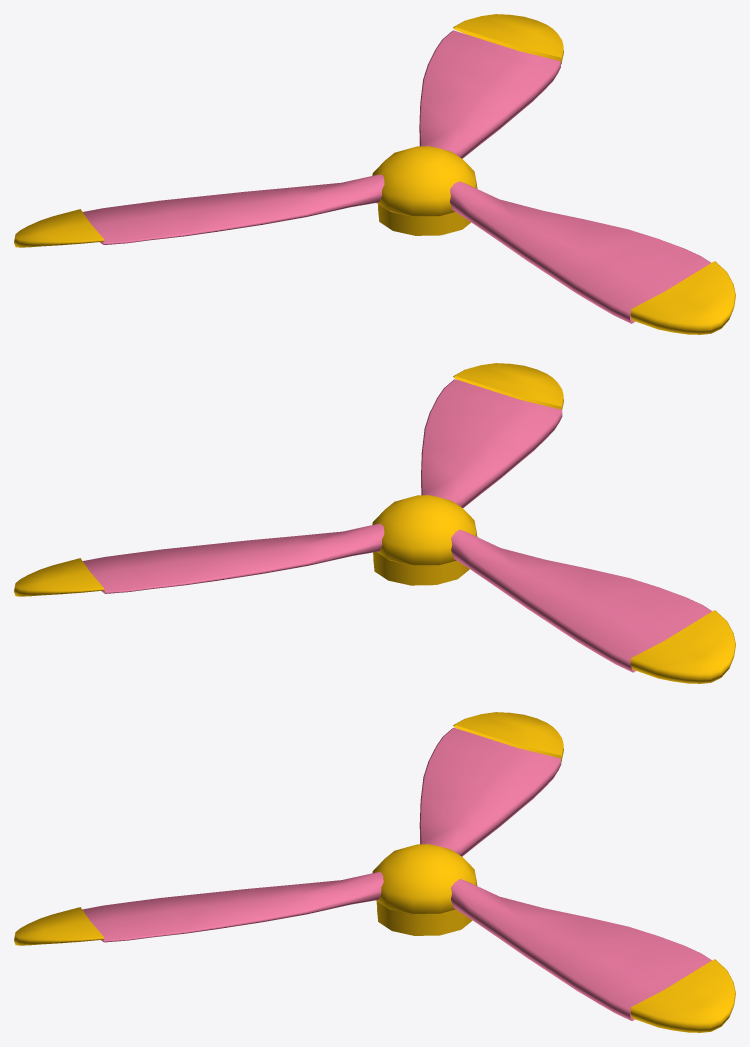
Rendered from HexProPeller.fbx.
3 views of the same model, one above another, from view 1: azimuth 30°, elevation 25°; view 2: azimuth 150°, elevation 25°; view 3: azimuth 270°, elevation 25° (orthographic).
Visible parts, largest first — view 1: PRP_FloatingCam_Propeller_0, PRP_FloatingCam_Propeller_1, PRP_FloatingCam_Propeller_2; view 2: PRP_FloatingCam_Propeller_0, PRP_FloatingCam_Propeller_1, PRP_FloatingCam_Propeller_2; view 3: PRP_FloatingCam_Propeller_0, PRP_FloatingCam_Propeller_1, PRP_FloatingCam_Propeller_2.
Part boxes in pixels (<box>): PRP_FloatingCam_Propeller_0: <box>83,30,710,323</box>; PRP_FloatingCam_Propeller_1: <box>14,14,735,334</box>; PRP_FloatingCam_Propeller_2: <box>378,204,470,235</box>; PRP_FloatingCam_Propeller_0: <box>83,379,711,672</box>; PRP_FloatingCam_Propeller_1: <box>14,363,735,683</box>; PRP_FloatingCam_Propeller_2: <box>373,552,469,585</box>; PRP_FloatingCam_Propeller_0: <box>82,727,711,1020</box>; PRP_FloatingCam_Propeller_1: <box>14,712,735,1032</box>; PRP_FloatingCam_Propeller_2: <box>376,901,472,935</box>.
Size of the model in its own units: 16.16 by 1.61 by 16.24.
